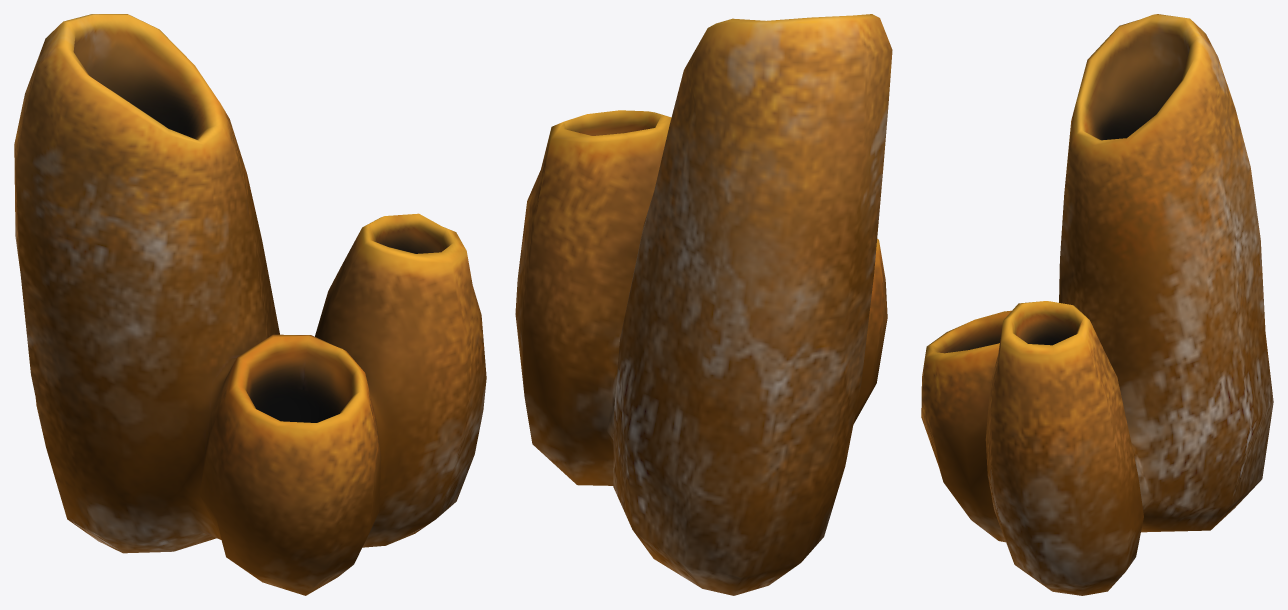
Rendered from Coral06-3.fbx.
3 views of the same model, side by side, from view 1: azimuth 30°, elevation 25°; view 2: azimuth 150°, elevation 25°; view 3: azimuth 270°, elevation 25° (orthographic). The views are drawn at different scales.
Parts seen in each view (by area): view 1: Coral_15_3; view 2: Coral_15_3; view 3: Coral_15_3.
Boxes of the visible parts, bbox=[...] form: Coral_15_3: bbox=[14, 14, 486, 595]; Coral_15_3: bbox=[515, 14, 892, 595]; Coral_15_3: bbox=[921, 14, 1273, 595].
Size of the model in its own units: 74.87 by 100 by 68.35.
